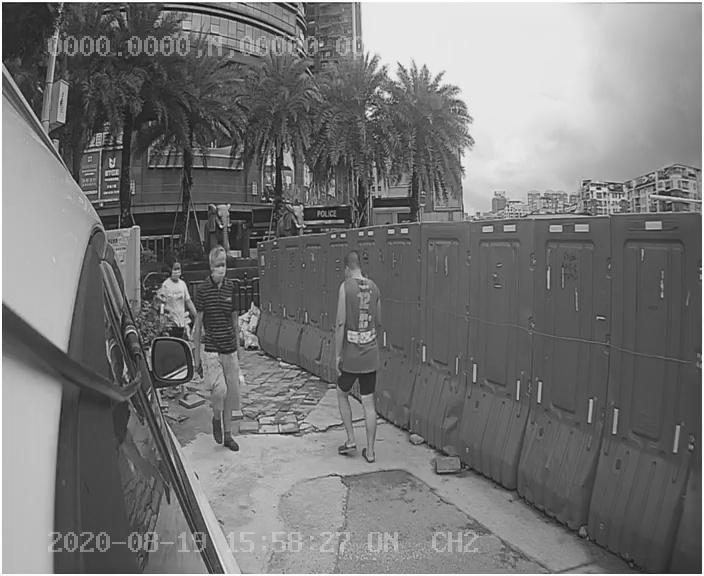person: (309, 243, 402, 480), (190, 246, 274, 454)
